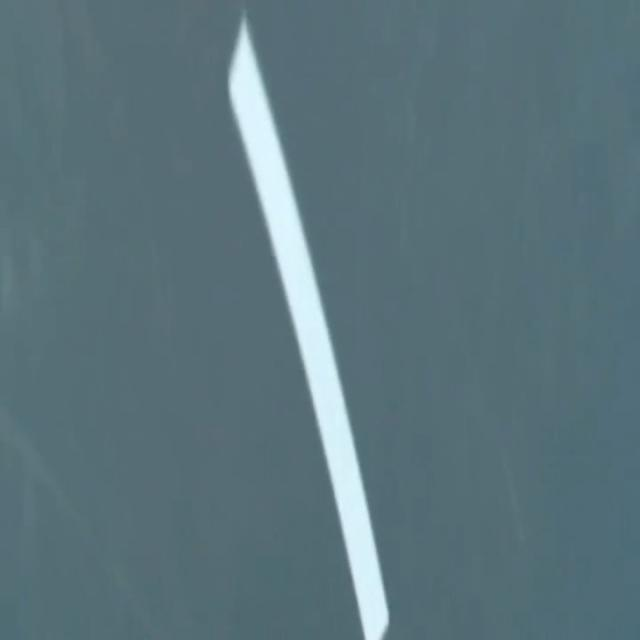center: (229, 14, 388, 639)
